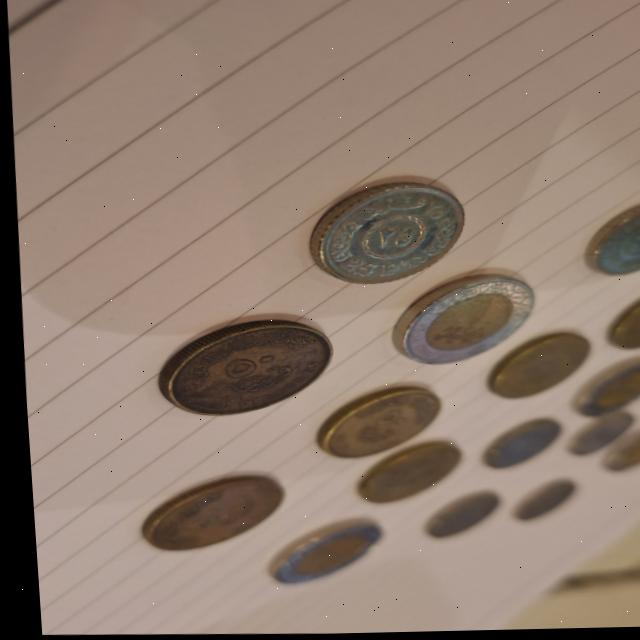Half Pound: (135, 318, 331, 419), (112, 475, 280, 551), (298, 393, 441, 456), (334, 448, 453, 497), (485, 337, 594, 386), (587, 297, 640, 351)
One Pound: (384, 278, 539, 358), (243, 521, 394, 590), (557, 365, 640, 410), (592, 437, 640, 475)
quarter pound: (304, 180, 464, 274), (569, 213, 640, 266), (466, 422, 562, 455), (498, 482, 565, 512), (561, 421, 624, 451), (419, 505, 489, 529)
